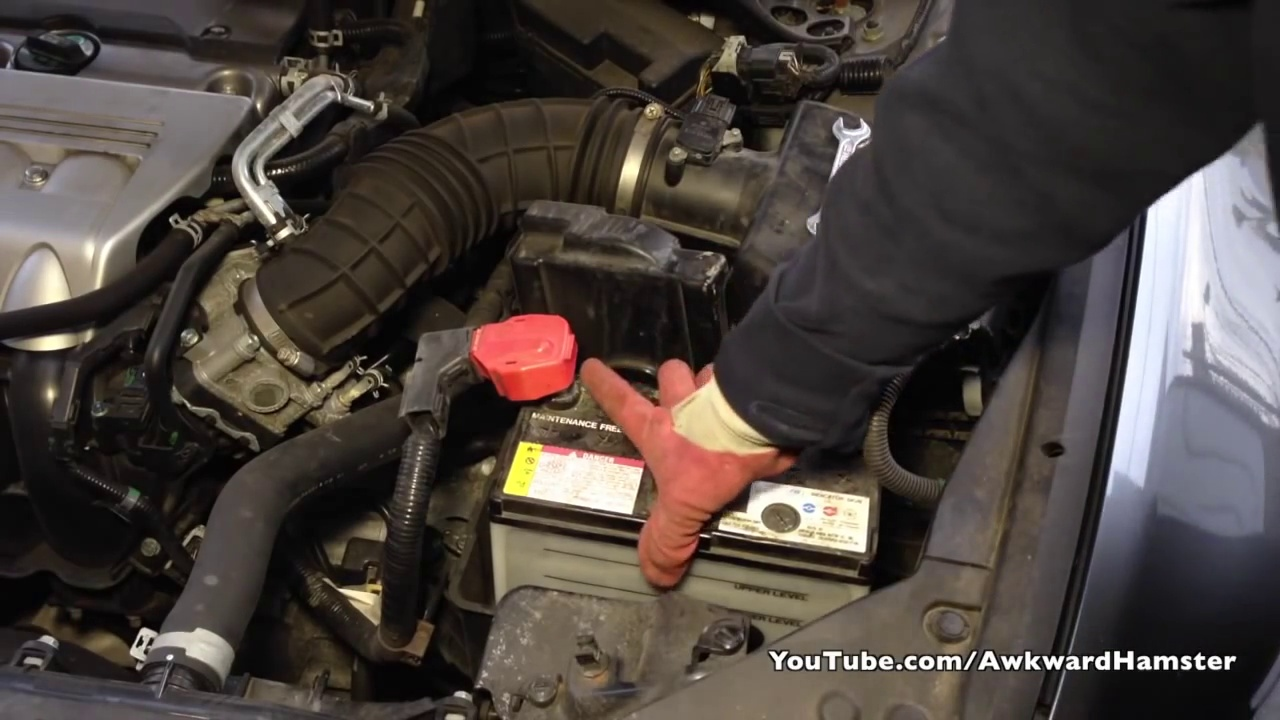battery: (475, 358, 889, 570)
pos_connected: (438, 300, 592, 416)
